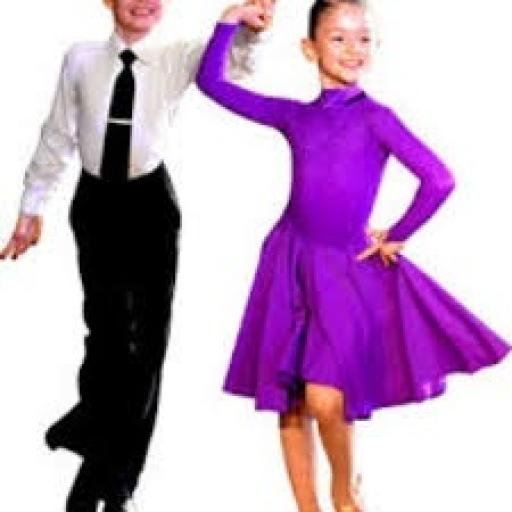dancing: (193, 0, 510, 510), (0, 0, 282, 510)
